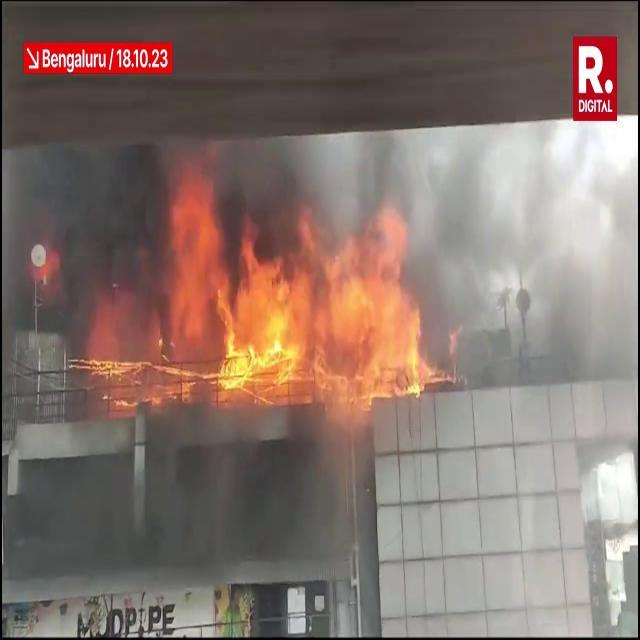Fire: (91, 187, 441, 408)
Smoke: (365, 128, 637, 364), (1, 144, 172, 352)
